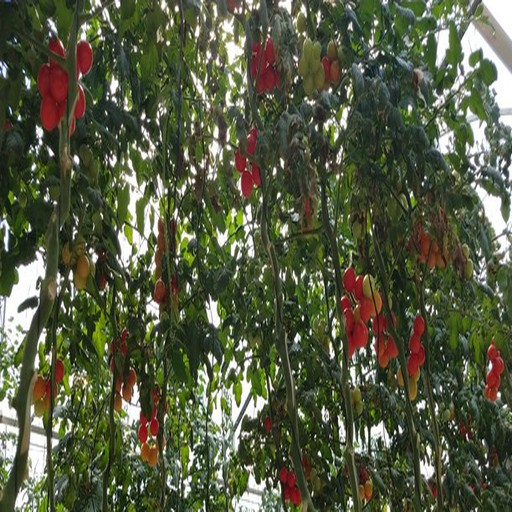green tomato bunch: (298, 38, 327, 94), (341, 387, 367, 417)
mixed tomato bunch: (336, 265, 382, 357), (59, 232, 108, 291), (394, 313, 425, 401), (153, 216, 180, 317), (137, 379, 167, 466), (28, 352, 64, 423), (411, 219, 446, 268), (373, 305, 399, 368)
red tomato bunch: (38, 40, 91, 132), (236, 128, 270, 197), (251, 37, 284, 92), (279, 457, 312, 507), (482, 342, 504, 402)
